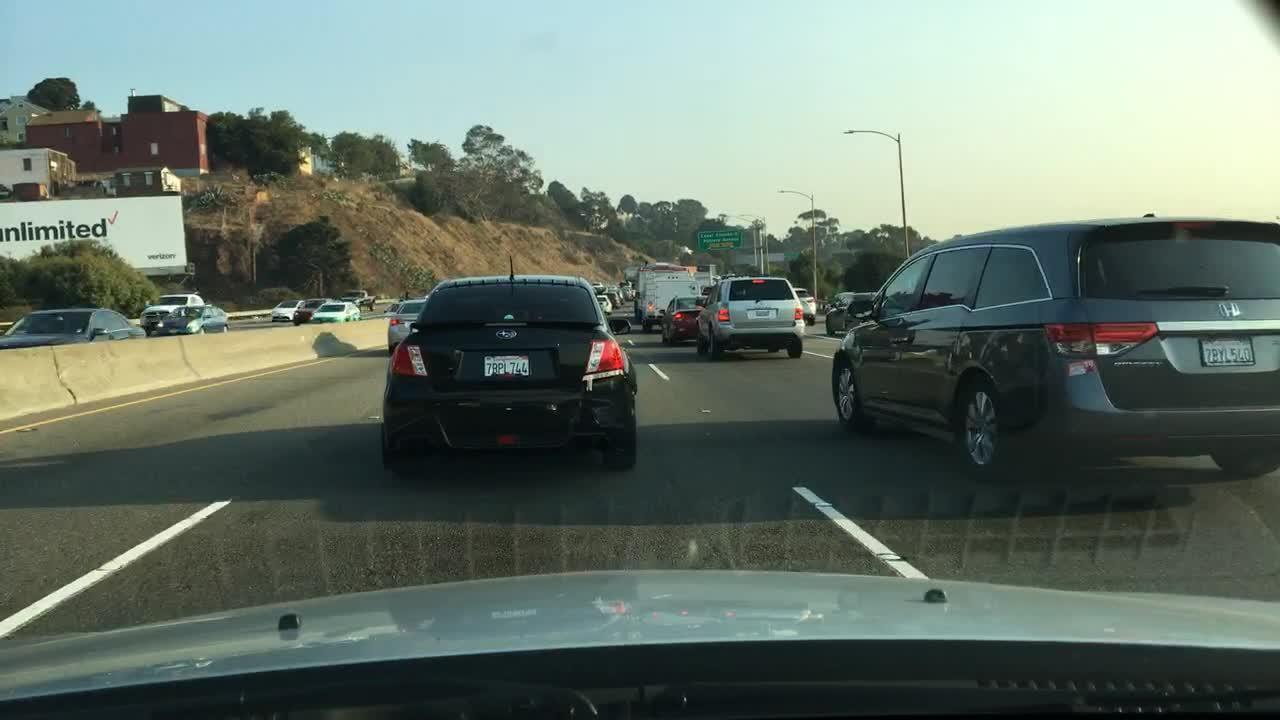Honda: (1210, 298, 1245, 322)
subaru: (496, 328, 518, 341)
